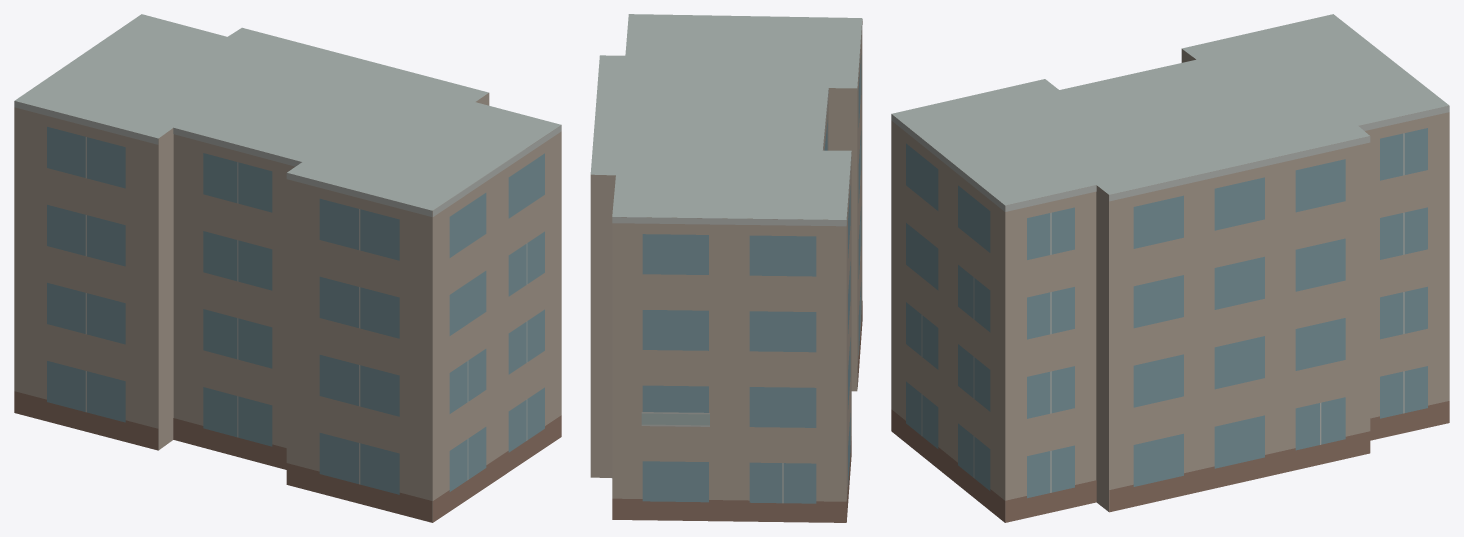
The model's file is survey-upis-32704057.glb.
3 views of the same model, side by side, from view 1: azimuth 30°, elevation 25°; view 2: azimuth 150°, elevation 25°; view 3: azimuth 270°, elevation 25° (orthographic). The views are drawn at different scales.
Visible parts, largest first — view 1: survey-upis-32704057.tmp; view 2: survey-upis-32704057.tmp; view 3: survey-upis-32704057.tmp.
Part boxes in pixels (x1=…): survey-upis-32704057.tmp: x1=14, y1=14, x2=561, y2=522; survey-upis-32704057.tmp: x1=590, y1=14, x2=862, y2=522; survey-upis-32704057.tmp: x1=891, y1=14, x2=1449, y2=522.
Bounding box in the file's own units: 15.28 × 11.8 × 18.82.
